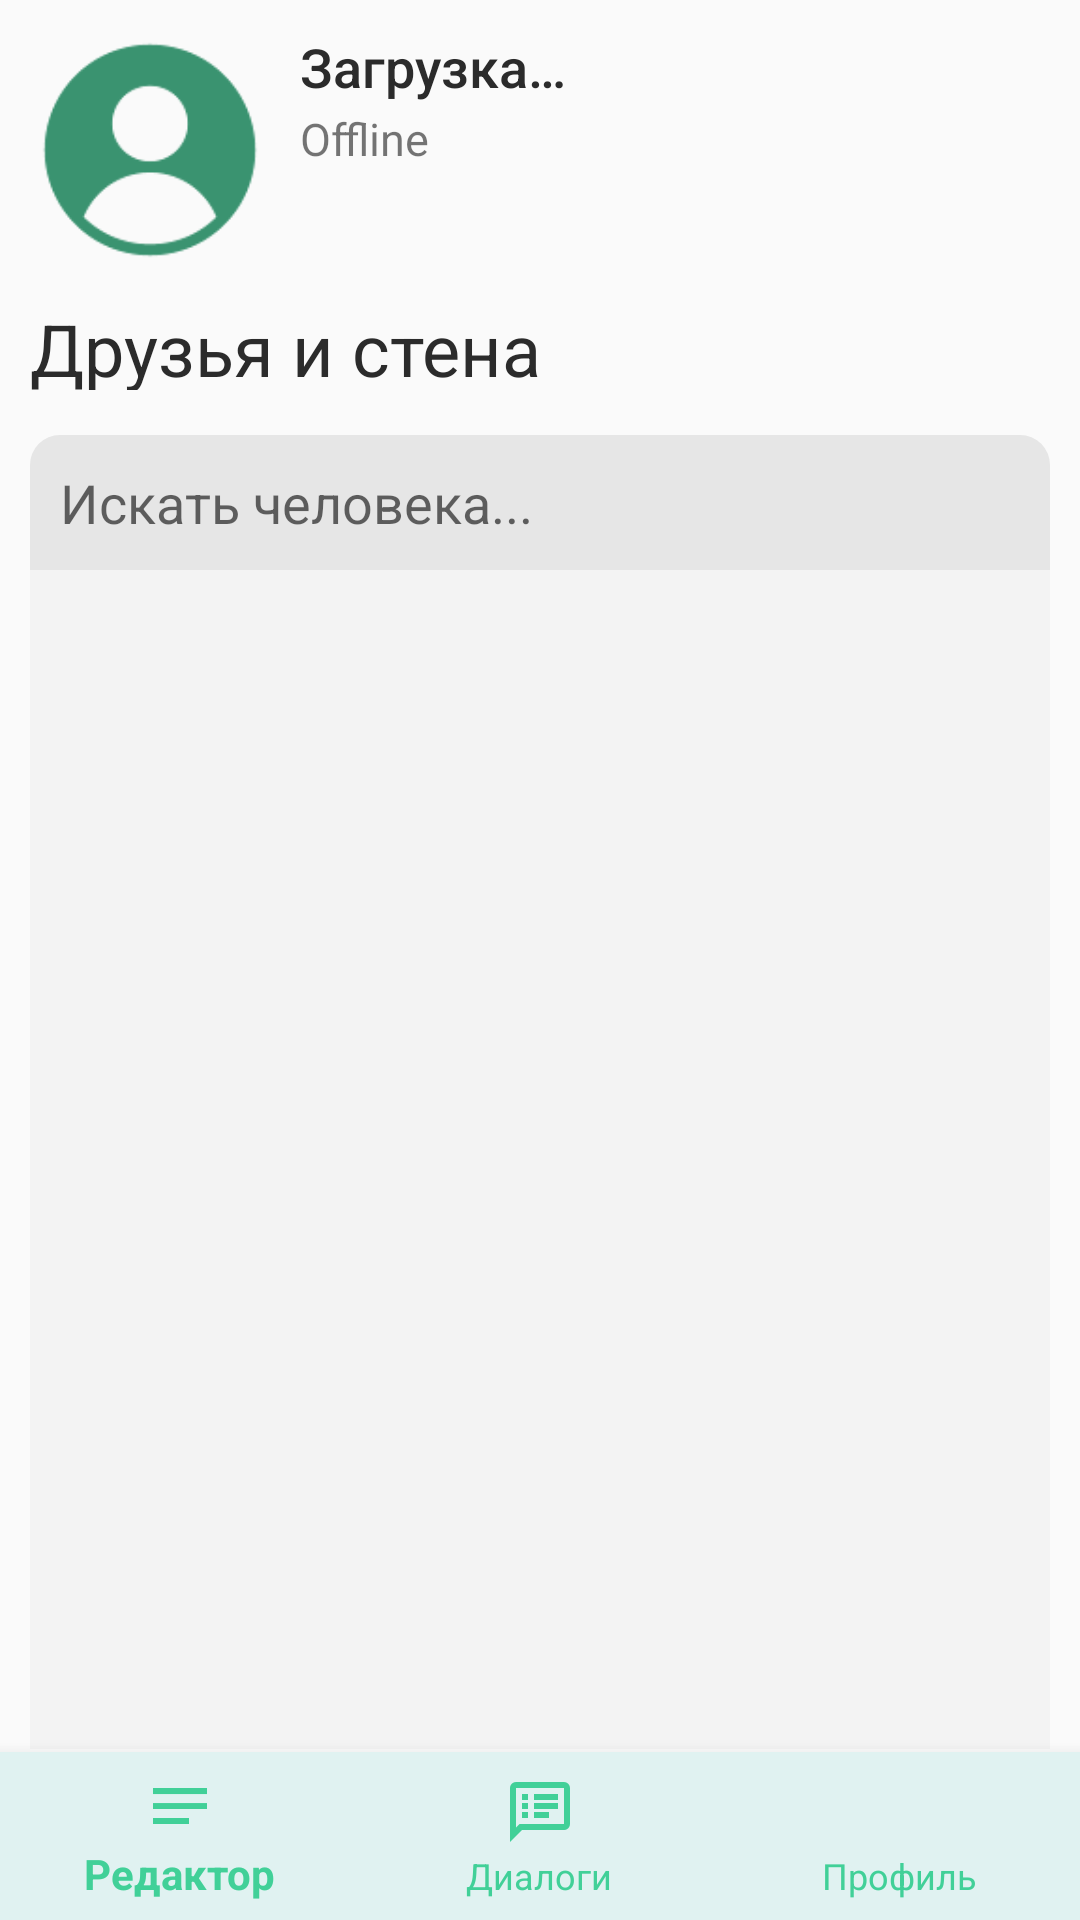

Icons on this 1080px x 1920px Android screen, each with its box as BBox(x1, y1, x2, y2):
Фото профиля: BBox(43, 43, 257, 257)
